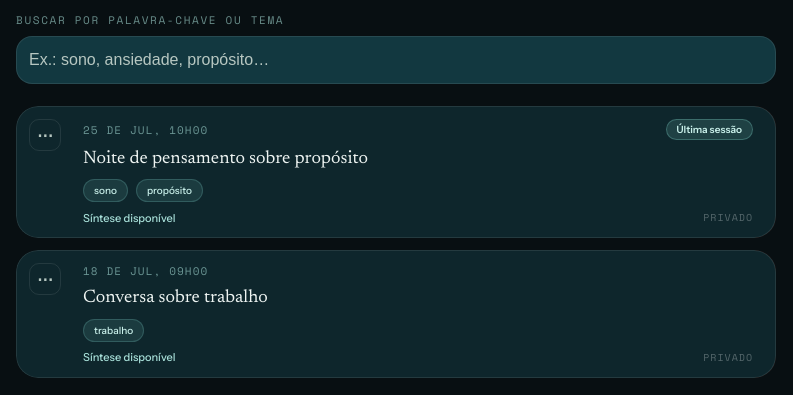
Scenario: HistoryList › filtra a lista instantaneamente ao digitar na busca (AC2)
This screenshot has width=793, height=395.
Type "trabalho" into the search field labelled "Buscar por palavra-chave ou tema" at (396, 60), box left=16, top=36, right=776, bottom=84
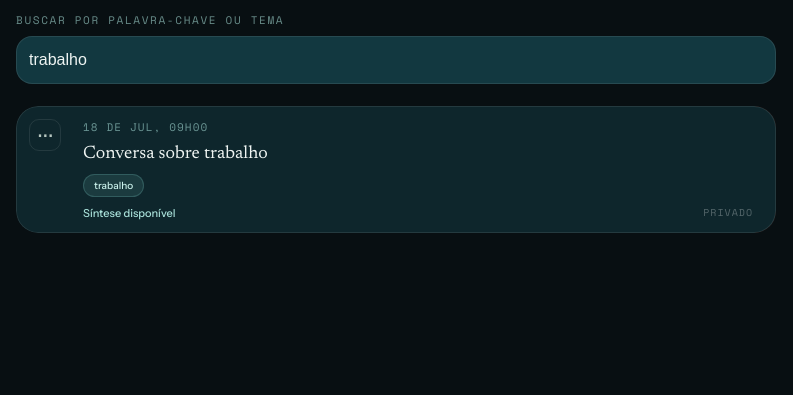
Check: the heading "Conversa sobre trabalho" is shown, box left=83, top=145, right=268, bottom=163
Check: the link "Noite de pensamento sobre propósito" is gone
